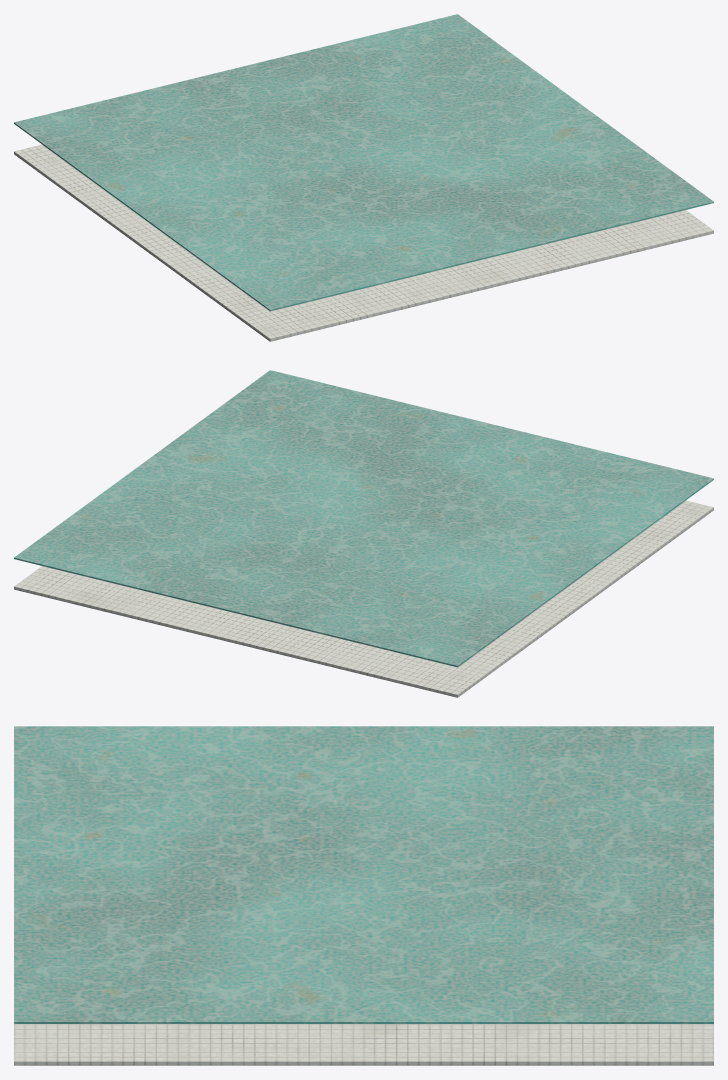
The model's file is pool_floor.fbx.
The picture shows the model from 3 angles, top to bottom: view 1: azimuth 30°, elevation 25°; view 2: azimuth 150°, elevation 25°; view 3: azimuth 270°, elevation 25°; orthographic projection. The views are drawn at different scales.
Parts seen in each view (by area): view 1: Wet, Body; view 2: Wet, Body; view 3: Wet, Body.
Part boxes in pixels (left/top/right/bottom): Wet: left=14, top=14, right=713, bottom=311; Body: left=14, top=144, right=713, bottom=341; Wet: left=14, top=370, right=713, bottom=667; Body: left=14, top=500, right=713, bottom=697; Wet: left=14, top=726, right=713, bottom=1023; Body: left=14, top=1024, right=713, bottom=1065.
Size of the model in its own units: 32 by 2.2 by 32.
Materials: 1 (1 with a texture image).
